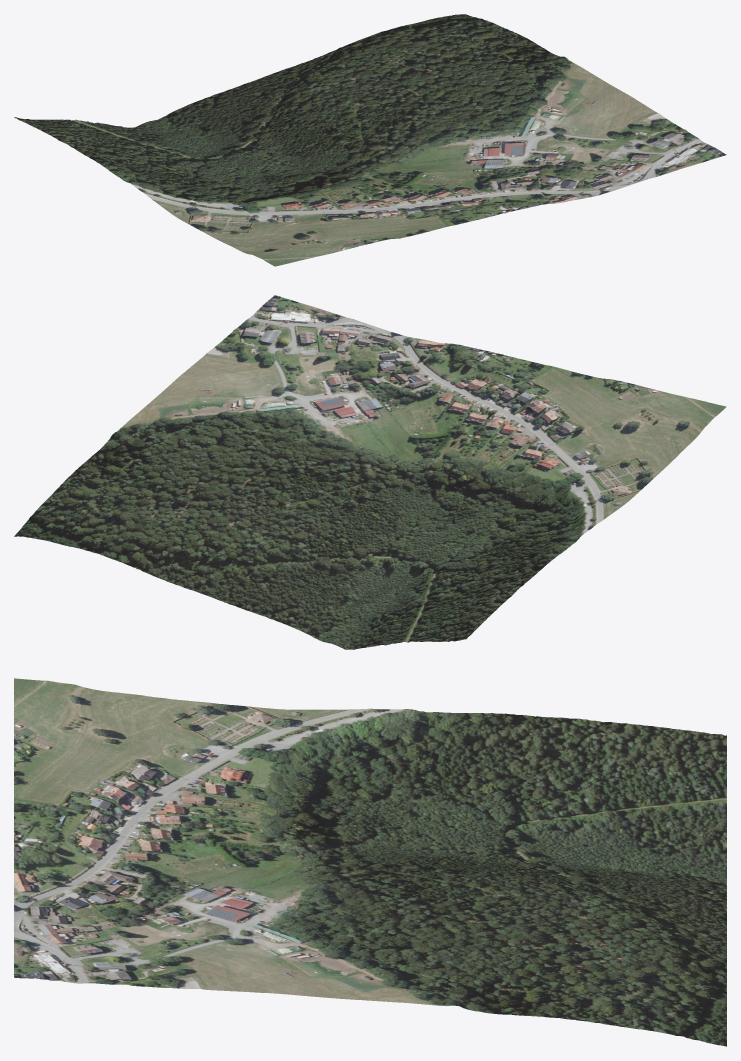
The model's file is terrain_1_2.glb.
3 views of the same model, one above another, from view 1: azimuth 30°, elevation 25°; view 2: azimuth 150°, elevation 25°; view 3: azimuth 270°, elevation 25° (orthographic). The views are drawn at different scales.
Parts seen in each view (by area): view 1: geometry_0; view 2: geometry_0; view 3: geometry_0.
Part boxes in pixels (<box>): geometry_0: <box>14,14,726,266</box>; geometry_0: <box>14,295,726,649</box>; geometry_0: <box>14,678,726,1046</box>.
Size of the model in its own units: 499 by 87.15 by 499.
1 material, 1 textured.
